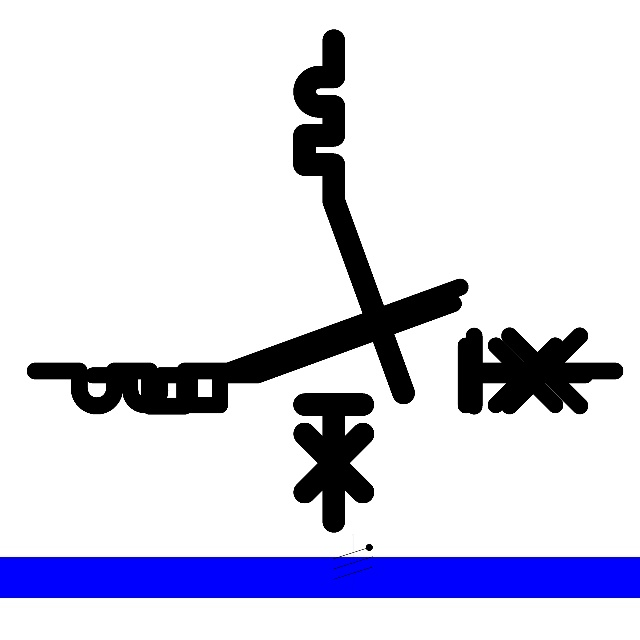interruptor_termomagnetico: (20, 272, 629, 421), (80, 291, 597, 418), (292, 28, 416, 534)
